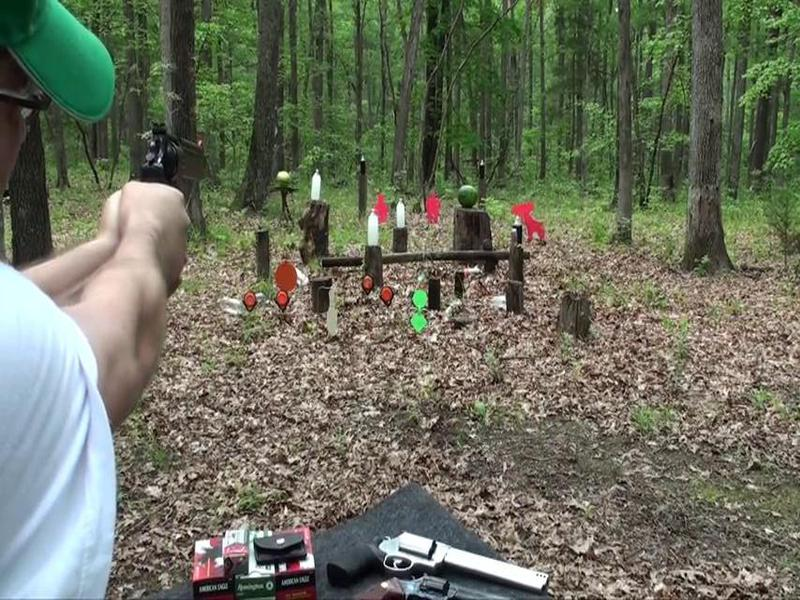Revolver: (119, 119, 232, 223)
